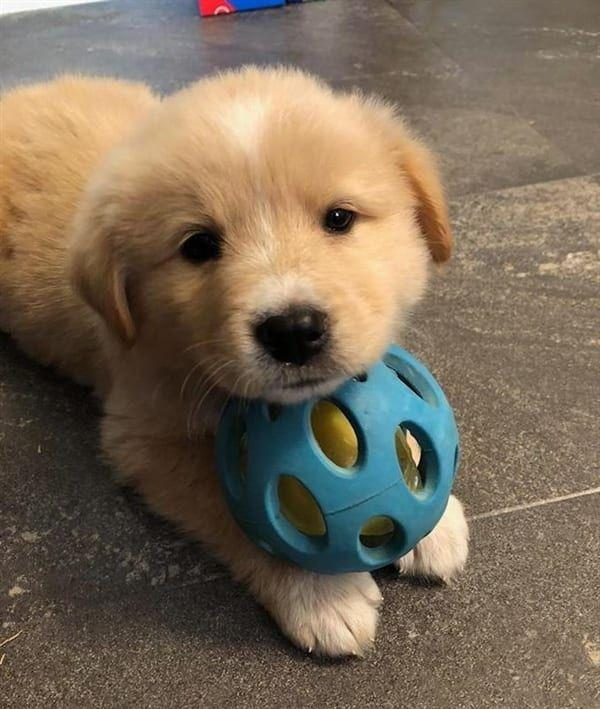puppy-dog: (0, 61, 474, 658)
